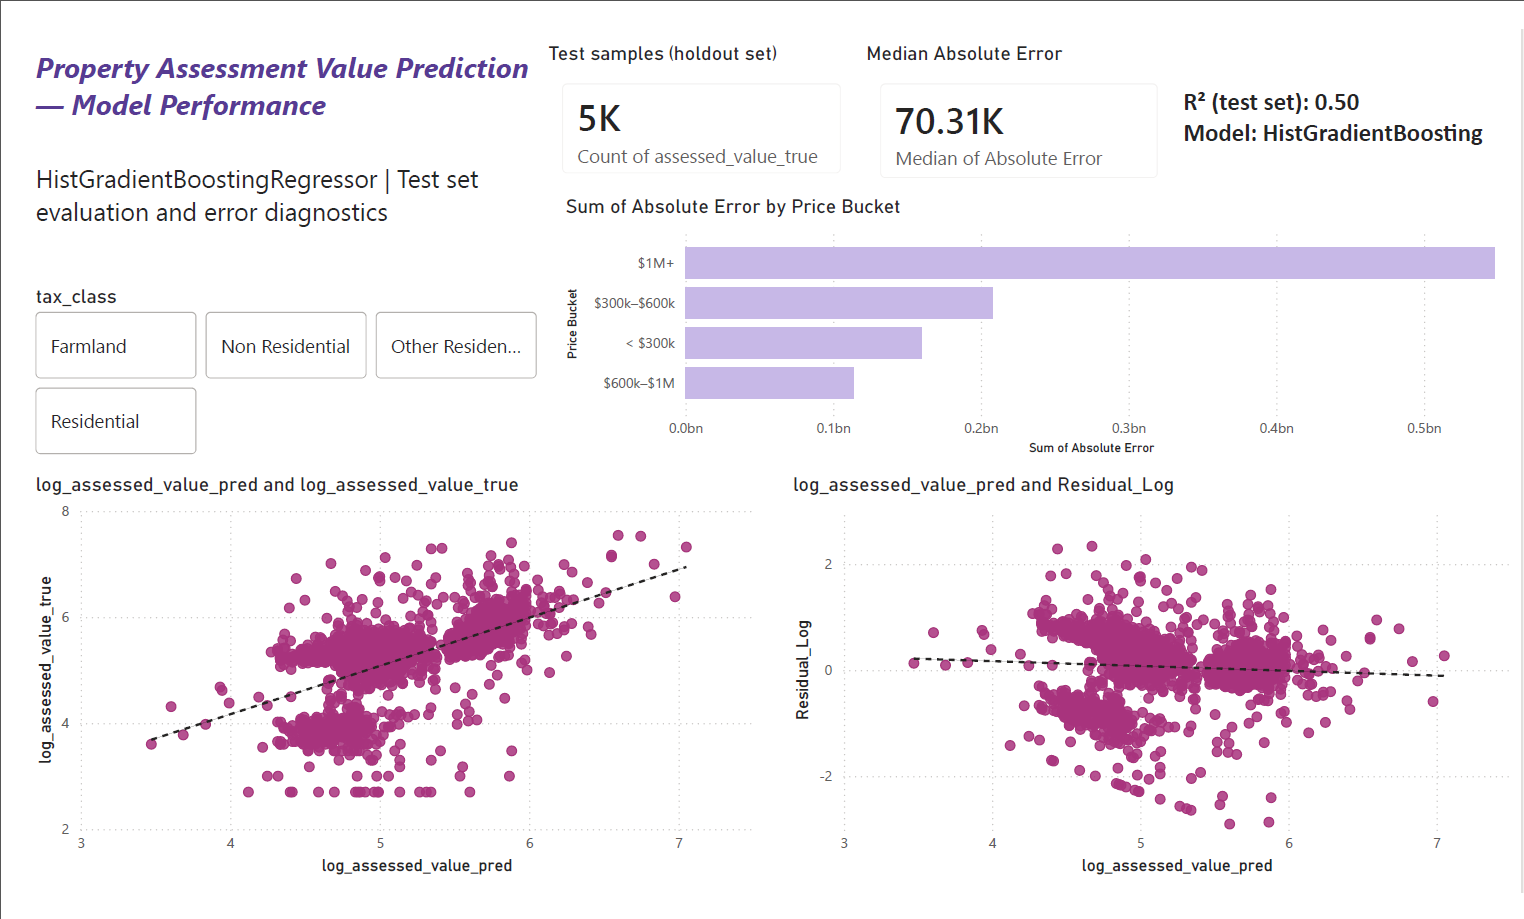

What the dashboard file says about the page in this screenshot:
{"tool":"powerbi","page":{"name":"Page 3","canvas":[1280,720],"ordinal":2},"visuals":[{"type":"scatterChart","fields":{"X":["property_value_predictions_sample.log_assessed_value_pred"],"Y":["property_value_predictions_sample.log_assessed_value_true"]},"box":[0,370,630,350],"z":0},{"type":"scatterChart","fields":{"X":["property_value_predictions_sample.log_assessed_value_pred"],"Y":["property_value_predictions_sample.Residual_Log"]},"box":[650,370,630,350],"z":1000},{"type":"barChart","fields":{"Category":["property_value_predictions_sample.Price Bucket"],"Y":["Sum(property_value_predictions_sample.Absolute Error)"]},"box":[455,131.2,825,228.8],"z":2000},{"type":"cardVisual","title":"Test samples (holdout set)","fields":{"Data":["CountNonNull(property_value_predictions_sample.assessed_value_true)"]},"box":[440,0,272.5,131.2],"z":3000},{"type":"cardVisual","title":"Median Absolute Error","fields":{"Data":["Median(property_value_predictions_sample.Absolute Error)"]},"box":[712.5,0,272.5,135],"z":4000},{"type":"textbox","box":[985,0,295,131.2],"z":5000},{"type":"advancedSlicerVisual","fields":{"Values":["property_value_predictions_sample.tax_class"]},"box":[0,207.5,441.2,152.5],"z":6000},{"type":"textbox","box":[0,0,440,187.5],"z":6001}]}

Visuals, with their boxes on the page's 1280x720 design canvas (x1, y1, x2, y2). These are canvas units, not pixel positions in the 1524x919 screenshot, which may show the page scaled, cropped or inside an application window:
scatterChart - property_value_predictions_sample.log_assessed_value_pred x property_value_predictions_sample.log_assessed_value_true: BBox(0, 370, 630, 720)
scatterChart - property_value_predictions_sample.log_assessed_value_pred x property_value_predictions_sample.Residual_Log: BBox(650, 370, 1280, 720)
barChart - property_value_predictions_sample.Price Bucket x Sum(property_value_predictions_sample.Absolute Error): BBox(455, 131, 1280, 360)
"Test samples (holdout set)" cardVisual: BBox(440, 0, 712, 131)
"Median Absolute Error" cardVisual: BBox(712, 0, 985, 135)
textbox: BBox(985, 0, 1280, 131)
advancedSlicerVisual - property_value_predictions_sample.tax_class: BBox(0, 208, 441, 360)
textbox: BBox(0, 0, 440, 188)
